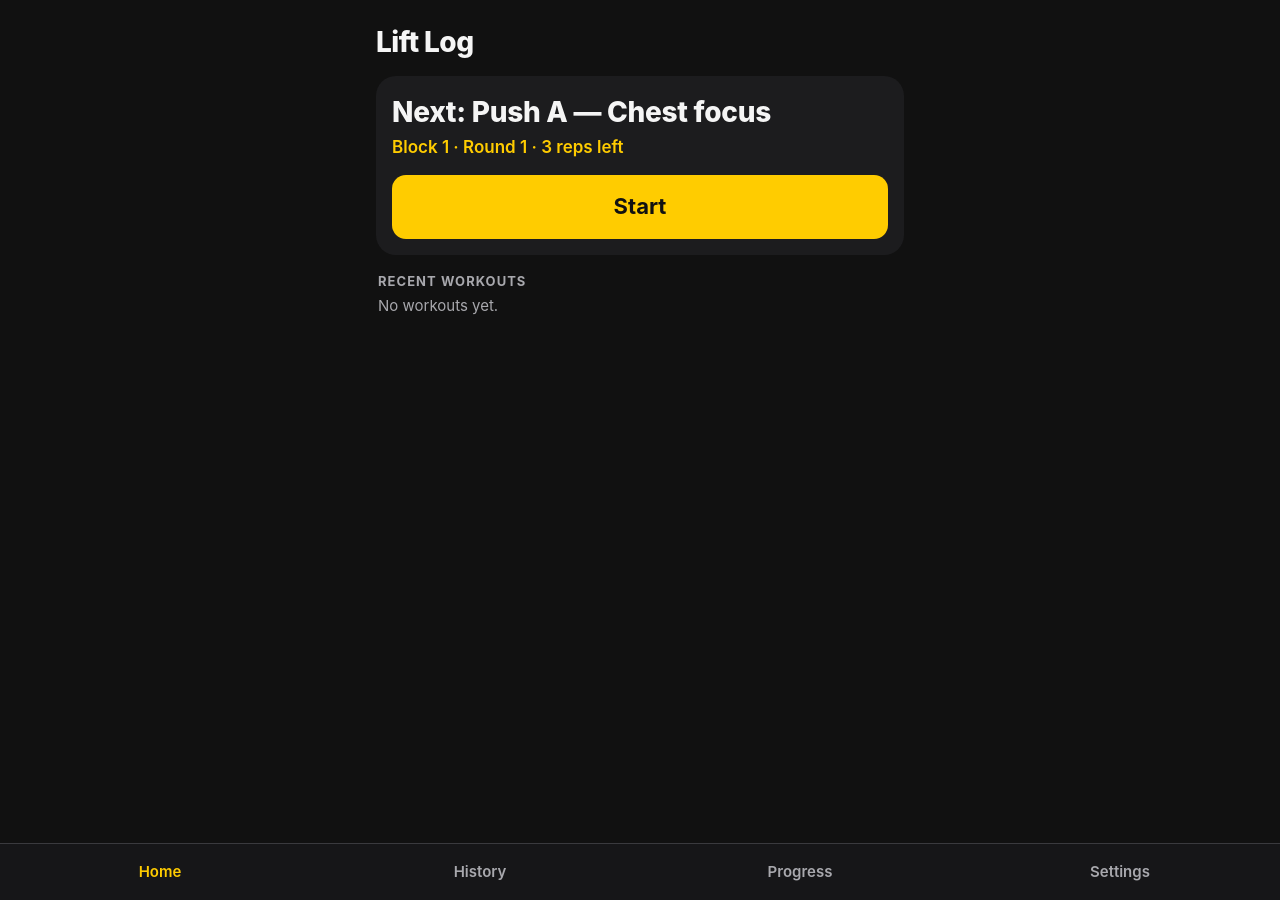
Test case: Workout › swaps an exercise with no sets
Click the button "Start" at (640, 207), box [392,175,888,239]
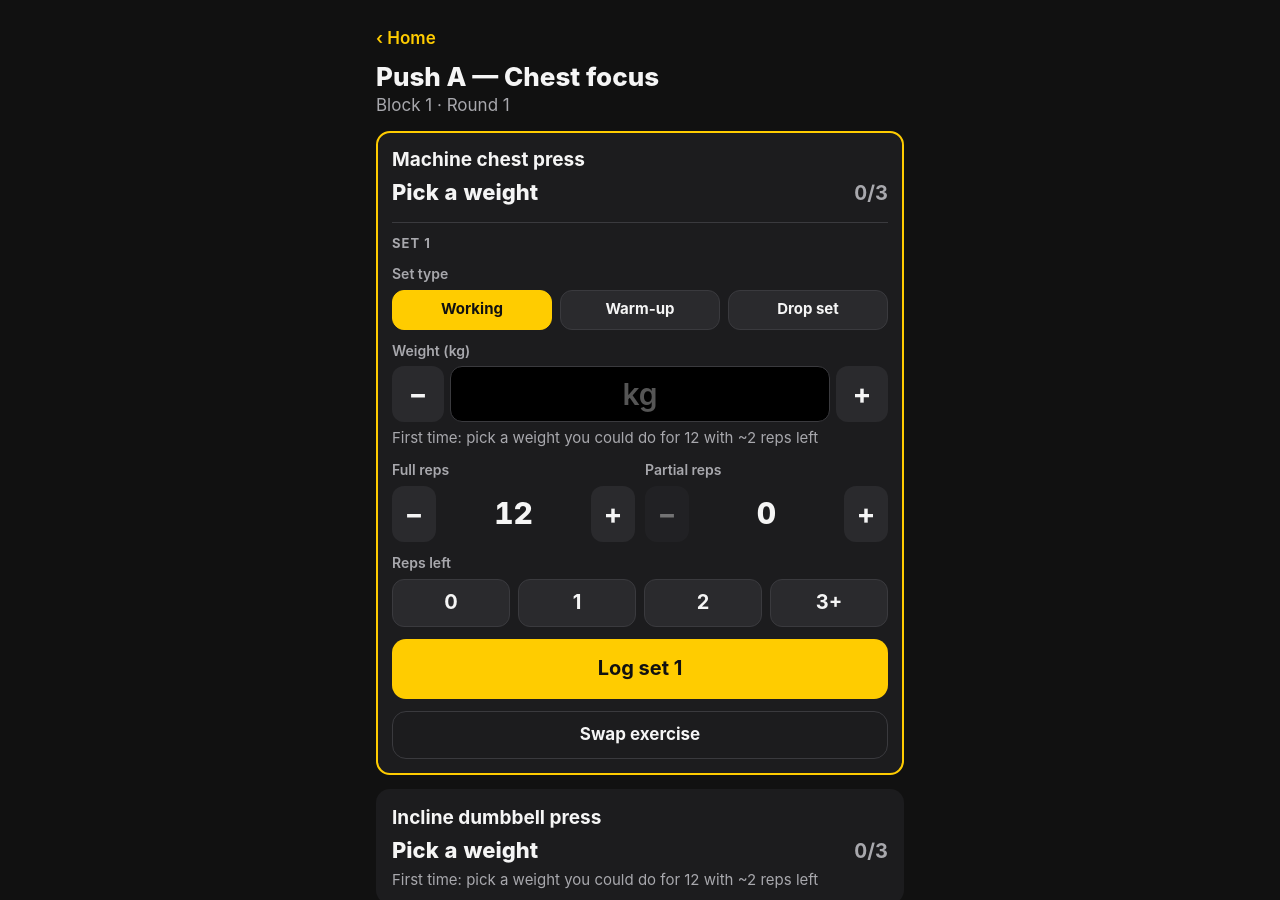
Check: the element "Machine chest press" is shown, box [376,131,904,774]
Click the button "Swap exercise" at (640, 734), box [392,710,888,758]
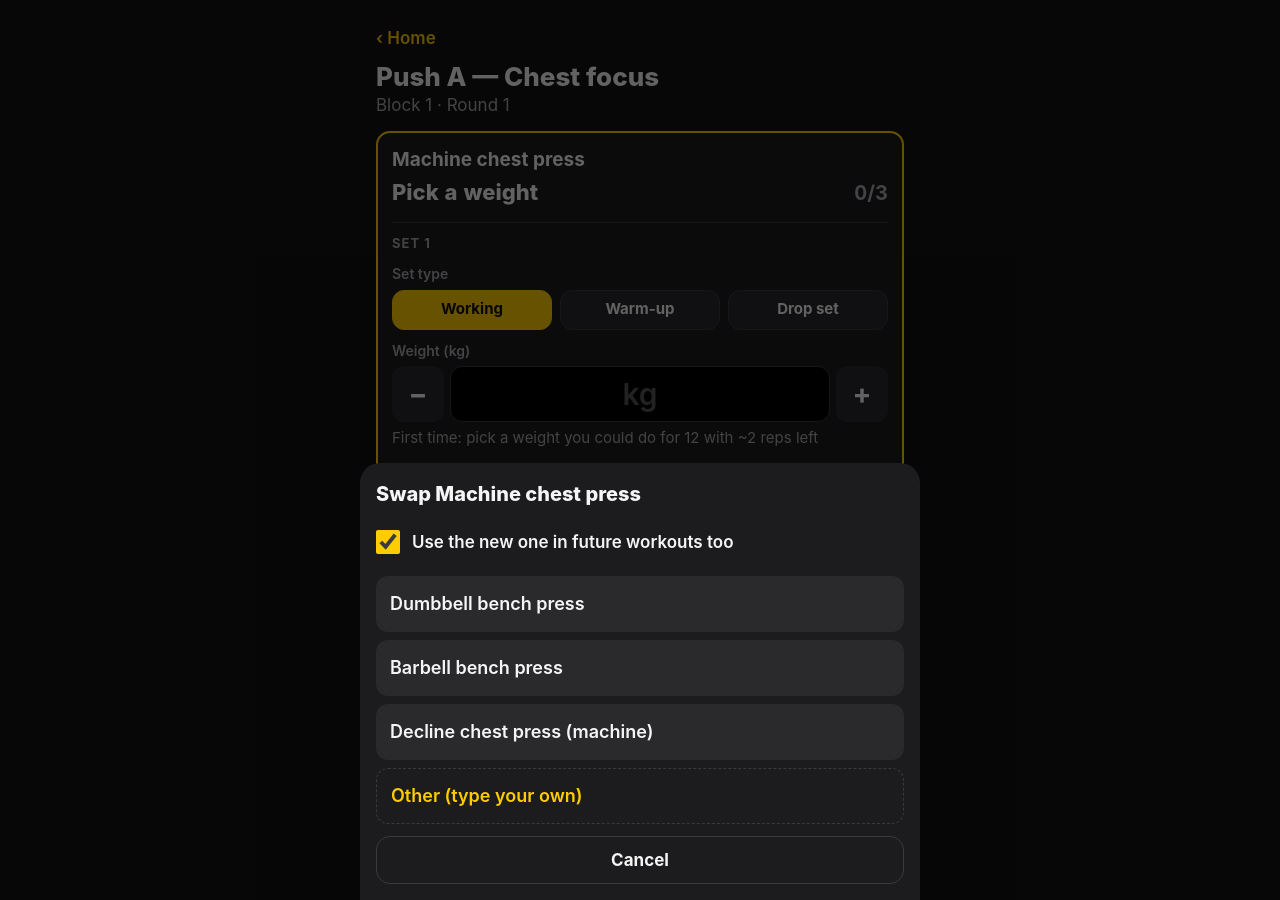
Click the button "Dumbbell bench press" at (487, 603), box [376,576,904,632]
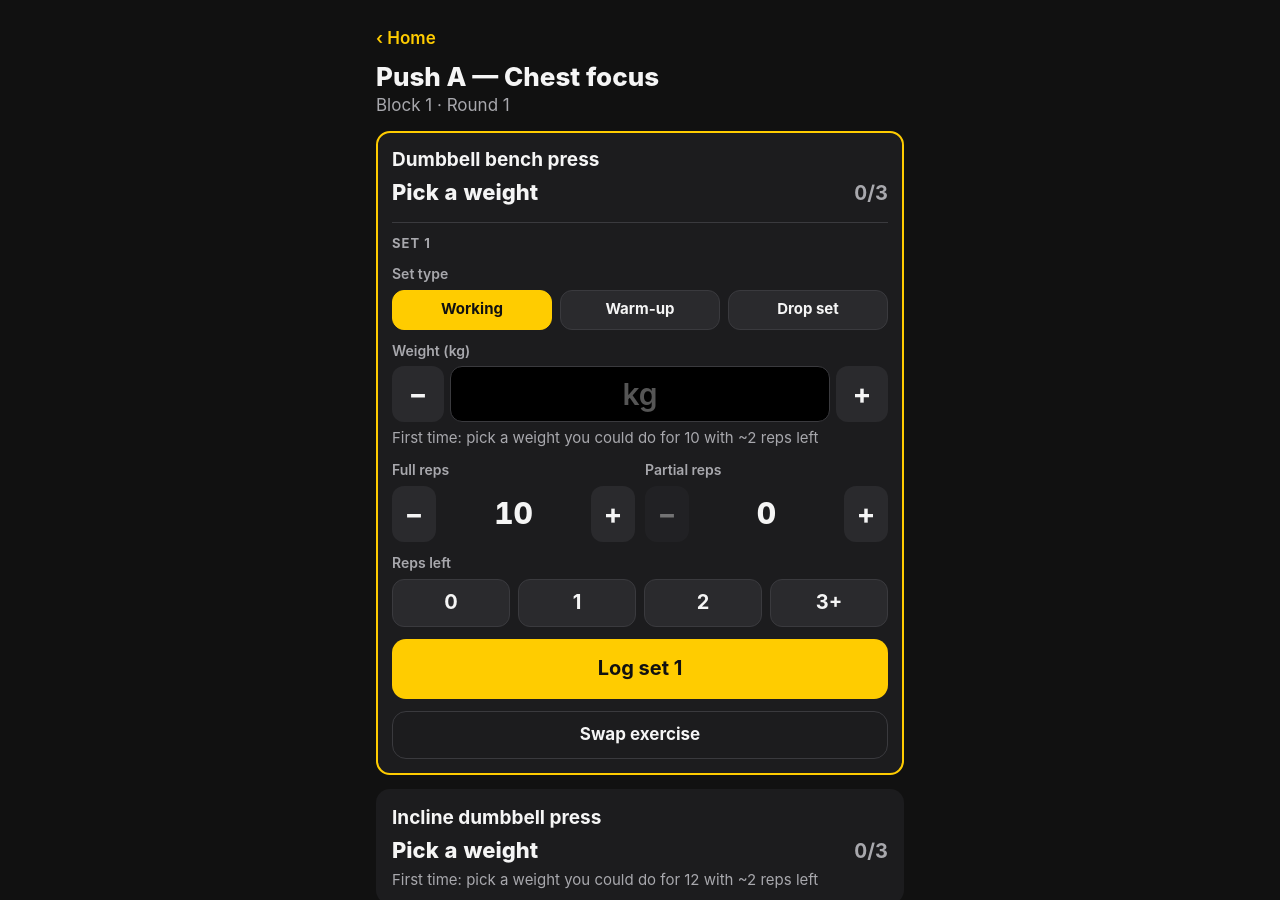
Check: the element "Dumbbell bench press" is shown, box [376,131,904,774]
Check: the button "Machine chest press" is gone
